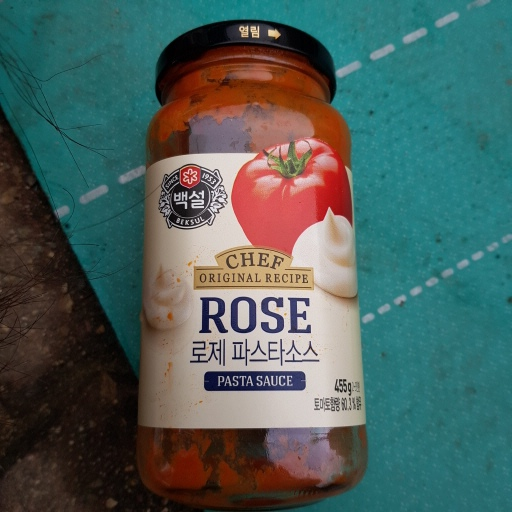Glass_5: (138, 22, 372, 504)
